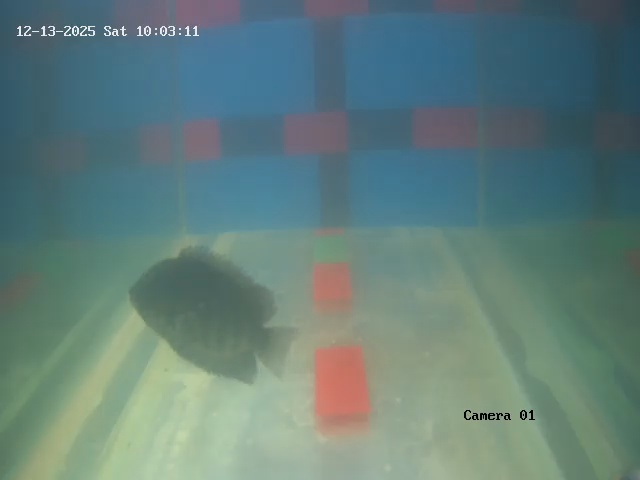fish: (130, 247, 269, 375)
